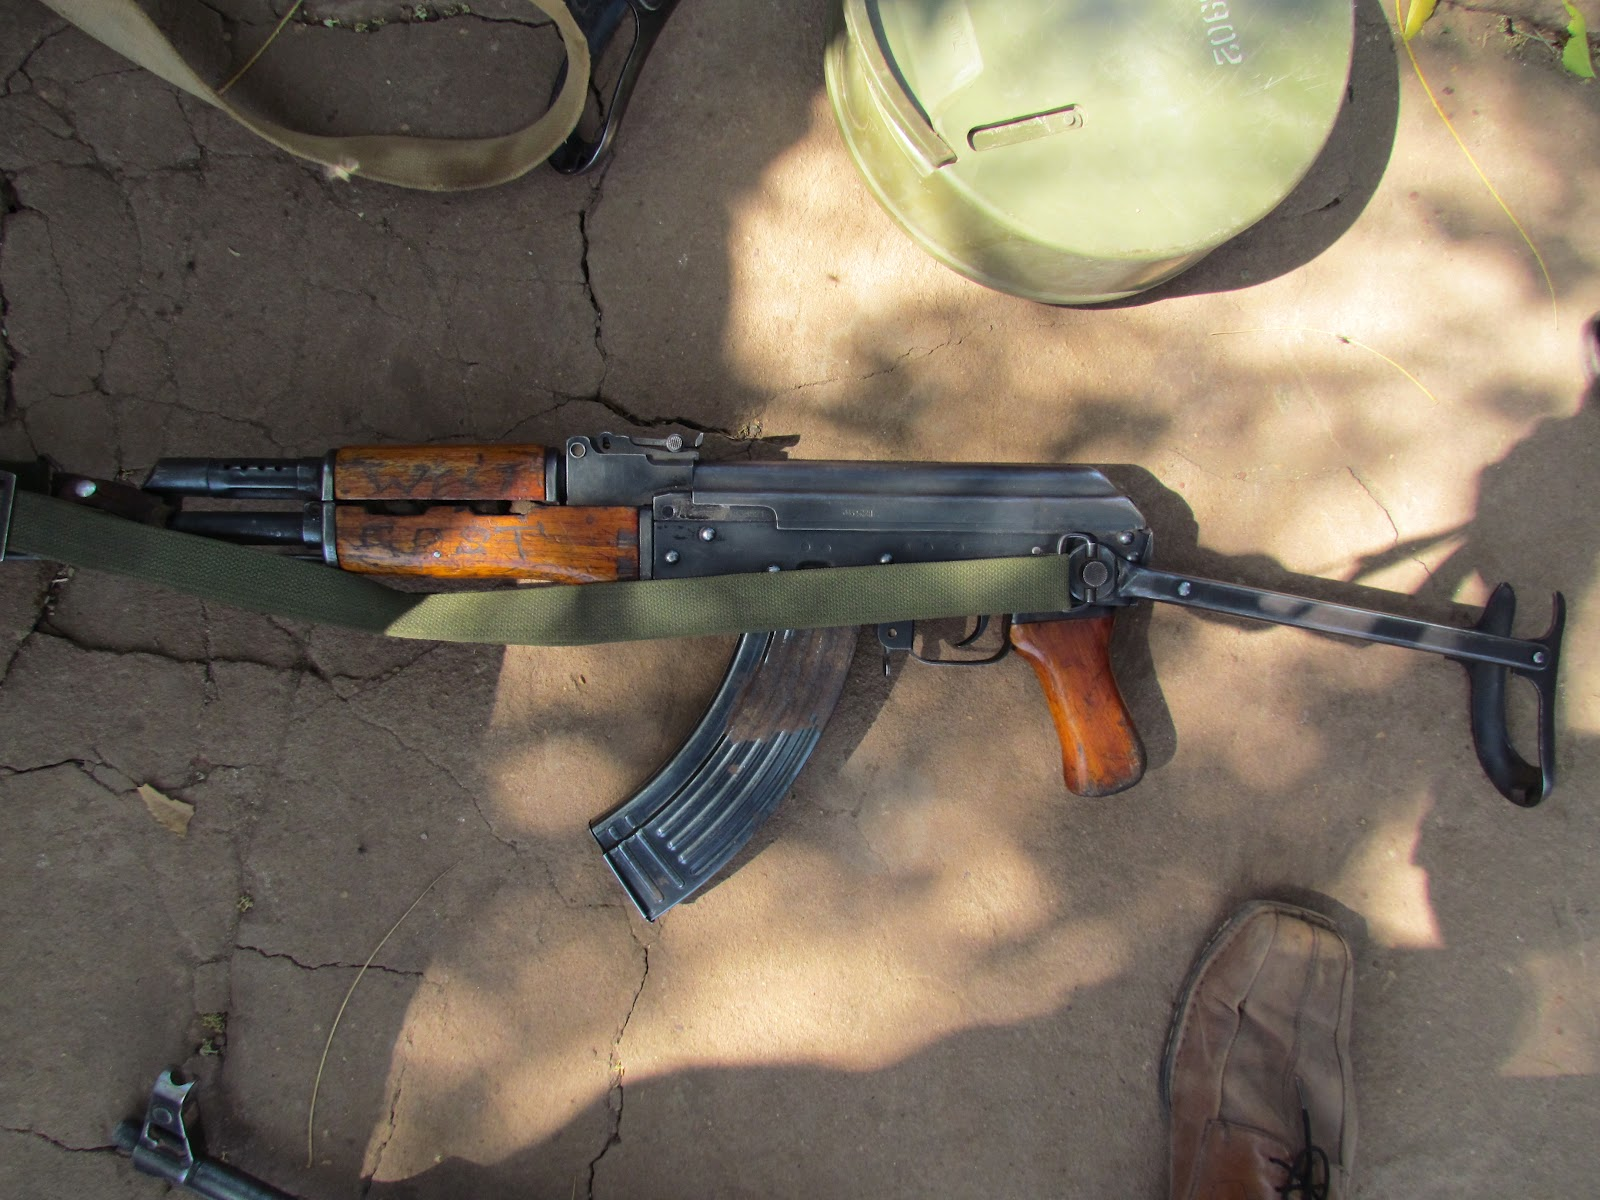Rifle: (1, 429, 1569, 924)
